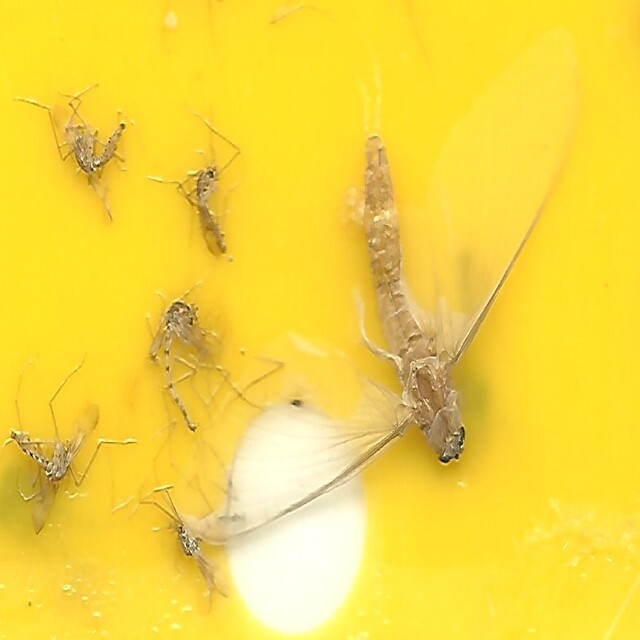Ephemeroptera: (196, 123, 579, 540)
Nematocera: (148, 295, 204, 430), (178, 156, 234, 277), (61, 100, 129, 186)
